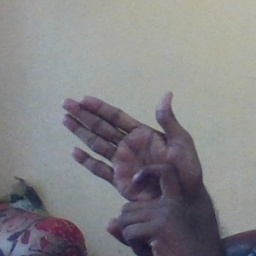R: (63, 82, 202, 243)
